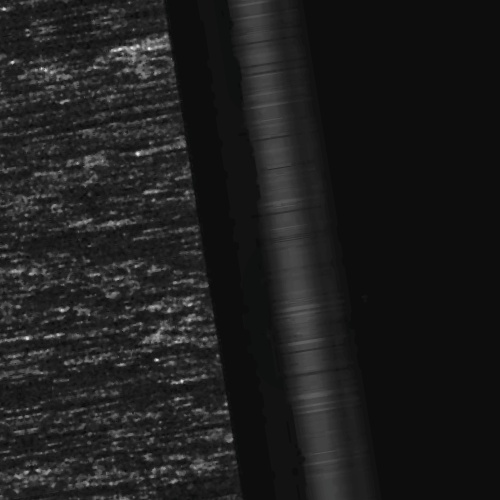object: (0, 11, 54, 20), (2, 295, 33, 300)
shadow: (12, 11, 194, 20), (0, 95, 136, 100), (18, 295, 109, 300)
